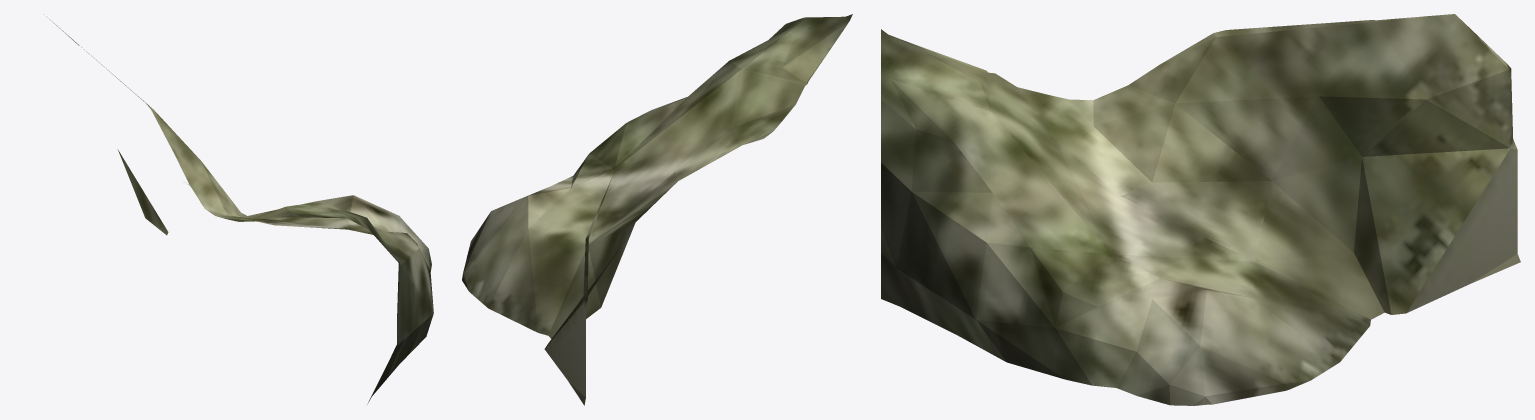
3 renders of one model, left to right at view 1: azimuth 30°, elevation 25°; view 2: azimuth 150°, elevation 25°; view 3: azimuth 270°, elevation 25°, orthographic. The views are drawn at different scales.
Bounding box in the file's own units: 0.7224 × 0.5811 × 1.36.
Materials: 1 (1 with a texture image).
